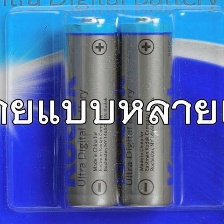battery: (117, 15, 176, 210), (63, 14, 121, 209)
